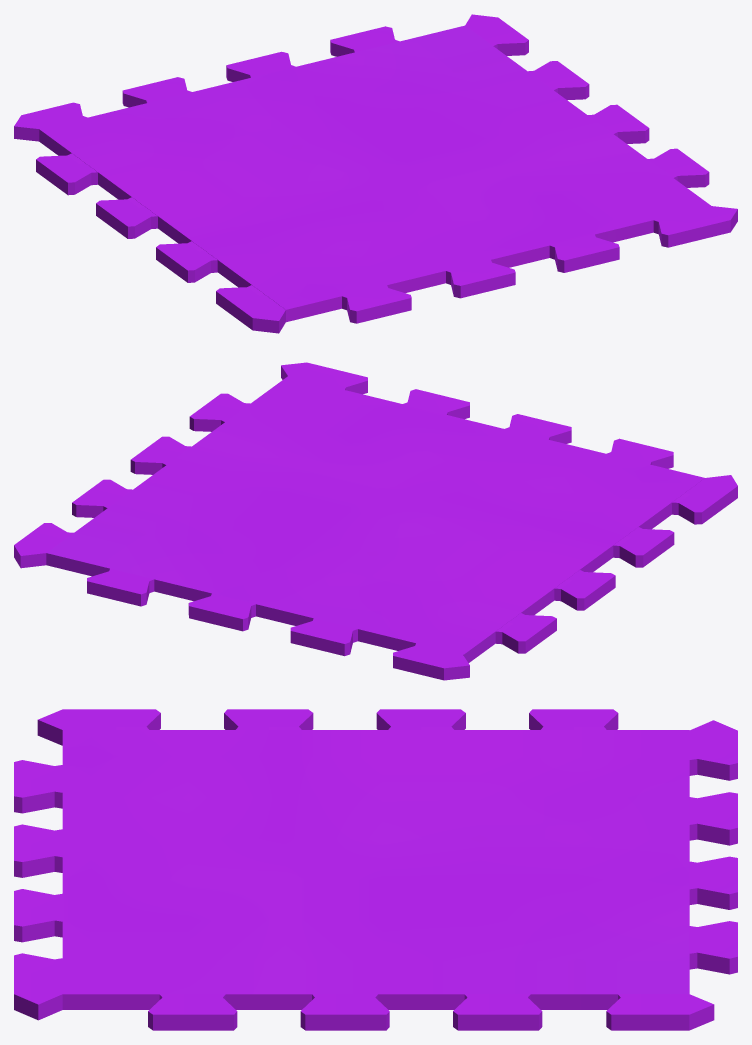
The model's file is PuzzleMatPink.fbx.
3 views of the same model, one above another, from view 1: azimuth 30°, elevation 25°; view 2: azimuth 150°, elevation 25°; view 3: azimuth 270°, elevation 25° (orthographic). The views are drawn at different scales.
Parts seen in each view (by area): view 1: Cube; view 2: Cube; view 3: Cube.
Part boxes in pixels (x1=…): Cube: x1=14, y1=14, x2=737, y2=333; Cube: x1=14, y1=362, x2=737, y2=680; Cube: x1=14, y1=709, x2=737, y2=1030.
Bounding box in the file's own units: 9.48 × 0.2291 × 9.5.
